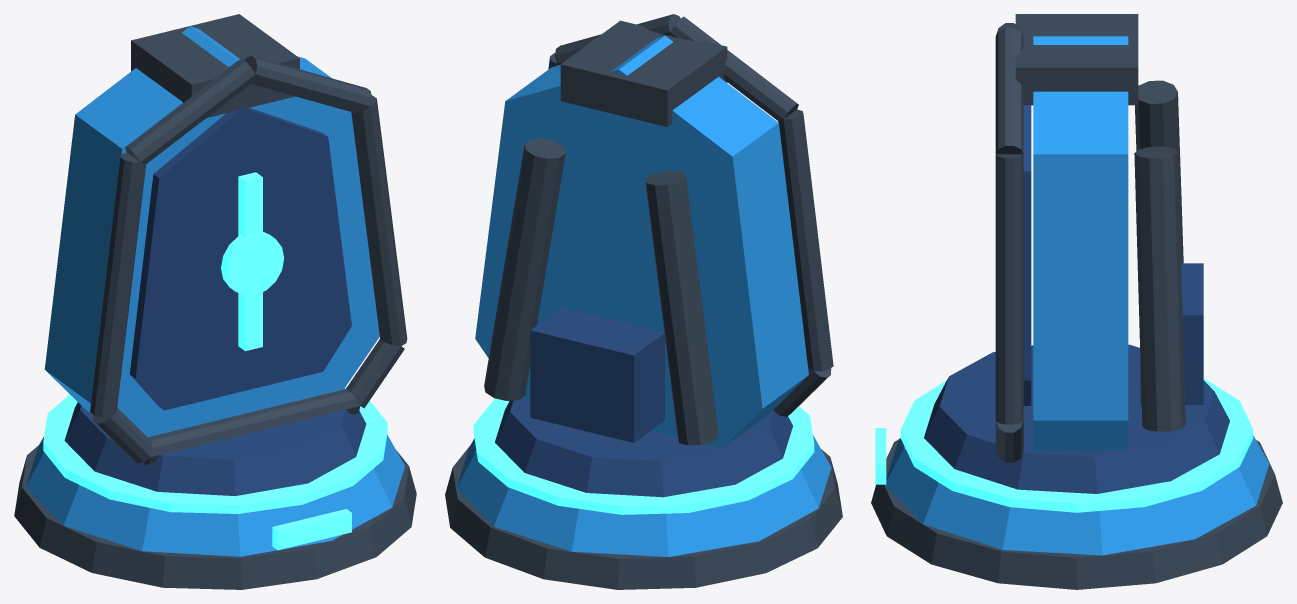
File: shield_blue.glb
3 renders of one model, left to right at view 1: azimuth 30°, elevation 25°; view 2: azimuth 150°, elevation 25°; view 3: azimuth 270°, elevation 25°, orthographic. The views are drawn at different scales.
Visible parts, largest first — view 1: shield_blue_Front_Armor_Panel, shield_blue_Armor_Shell, shield_blue_Front_Frame, shield_blue_Base_Lower, shield_blue_Base_Armor, shield_blue_Base_Deck, shield_blue_Base_Light_Ring, shield_blue_Top_Armor, shield_blue_Energy_Node, shield_blue_Energy_Slit, shield_blue_Status_Light; view 2: shield_blue_Armor_Shell, shield_blue_Base_Armor, shield_blue_Base_Deck, shield_blue_Base_Lower, shield_blue_Rear_Power, shield_blue_Front_Frame, shield_blue_Rear_Brace_Left, shield_blue_Rear_Brace_Right, shield_blue_Top_Armor, shield_blue_Base_Light_Ring; view 3: shield_blue_Armor_Shell, shield_blue_Base_Deck, shield_blue_Base_Armor, shield_blue_Base_Lower, shield_blue_Rear_Brace_Right, shield_blue_Front_Frame, shield_blue_Base_Light_Ring, shield_blue_Top_Armor, shield_blue_Rear_Brace_Left, shield_blue_Rear_Power, shield_blue_Front_Armor_Panel, shield_blue_Status_Light.
Boxes of the visible parts, box(x1,y1,x2,y2) form: shield_blue_Front_Armor_Panel: box(130, 107, 351, 410); shield_blue_Armor_Shell: box(44, 26, 379, 437); shield_blue_Front_Frame: box(90, 56, 407, 465); shield_blue_Base_Lower: box(14, 445, 416, 589); shield_blue_Base_Armor: box(26, 435, 404, 556); shield_blue_Base_Deck: box(64, 388, 366, 496); shield_blue_Base_Light_Ring: box(43, 386, 387, 513); shield_blue_Top_Armor: box(131, 14, 299, 117); shield_blue_Energy_Node: box(221, 232, 284, 295); shield_blue_Energy_Slit: box(238, 172, 262, 351); shield_blue_Status_Light: box(272, 509, 351, 550); shield_blue_Armor_Shell: box(475, 36, 808, 447); shield_blue_Base_Armor: box(456, 435, 831, 556); shield_blue_Base_Deck: box(495, 399, 792, 497); shield_blue_Base_Lower: box(445, 446, 842, 589); shield_blue_Rear_Power: box(530, 308, 664, 442); shield_blue_Front_Frame: box(548, 14, 833, 416); shield_blue_Rear_Brace_Left: box(645, 171, 718, 445); shield_blue_Rear_Brace_Right: box(484, 138, 565, 400); shield_blue_Top_Armor: box(560, 20, 727, 126); shield_blue_Base_Light_Ring: box(473, 398, 814, 514); shield_blue_Armor_Shell: box(1033, 36, 1128, 450); shield_blue_Base_Deck: box(924, 344, 1229, 493); shield_blue_Base_Armor: box(885, 435, 1269, 555); shield_blue_Base_Lower: box(871, 438, 1282, 589); shield_blue_Rear_Brace_Right: box(1134, 146, 1185, 431); shield_blue_Front_Frame: box(995, 23, 1023, 462); shield_blue_Base_Light_Ring: box(900, 378, 1253, 512); shield_blue_Top_Armor: box(1015, 14, 1138, 105); shield_blue_Rear_Brace_Left: box(1135, 80, 1183, 263); shield_blue_Rear_Power: box(1140, 263, 1203, 404); shield_blue_Front_Armor_Panel: box(1023, 105, 1031, 405); shield_blue_Status_Light: box(875, 428, 886, 484).
Size of the model in its own units: 1.04 by 1.33 by 1.04.
